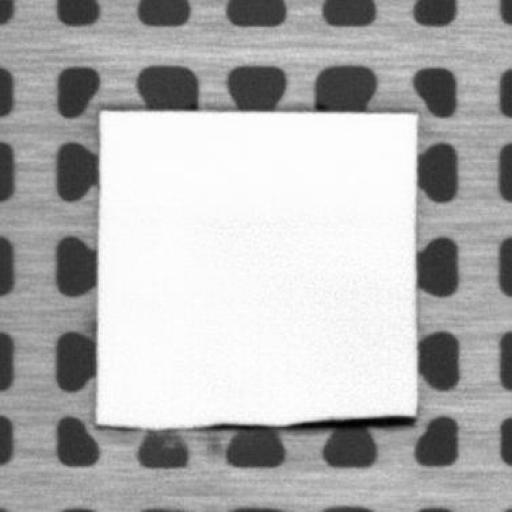DIE_BROKEN: (199, 411, 417, 428)
